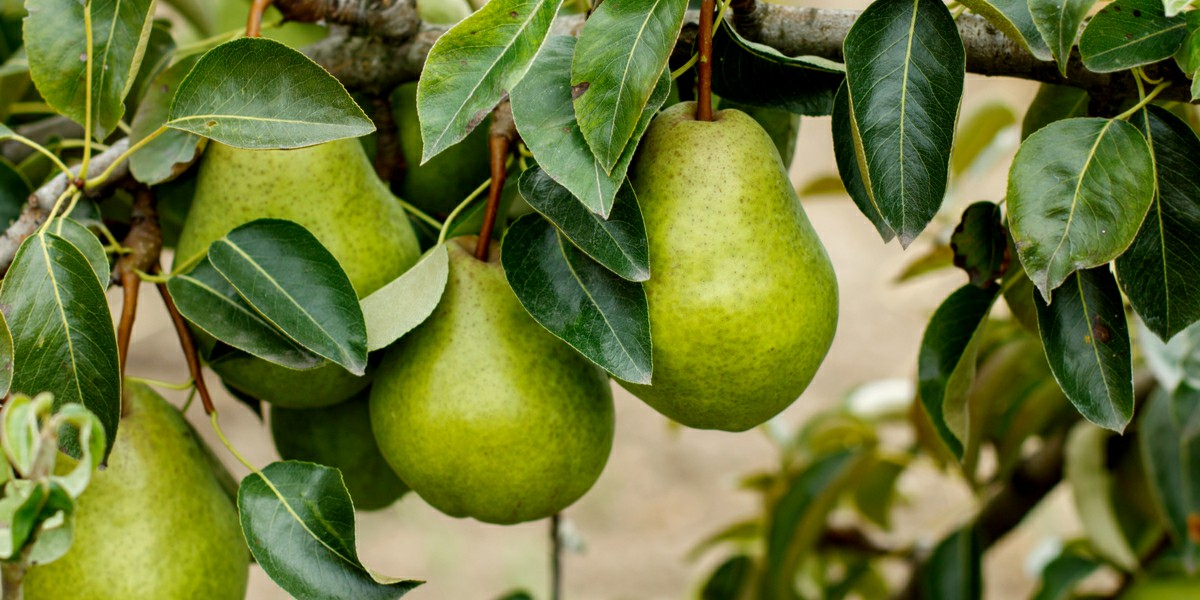pear: (582, 100, 838, 431), (169, 93, 426, 406), (370, 229, 615, 524), (1, 380, 244, 600)
